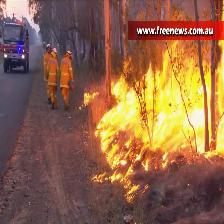fire: (82, 41, 224, 204)
